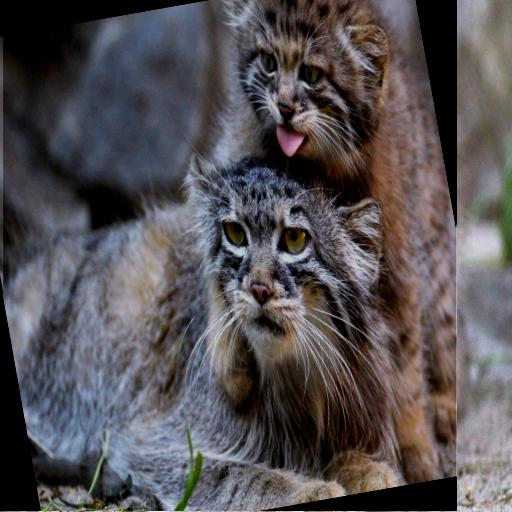manul: (3, 0, 456, 511)
